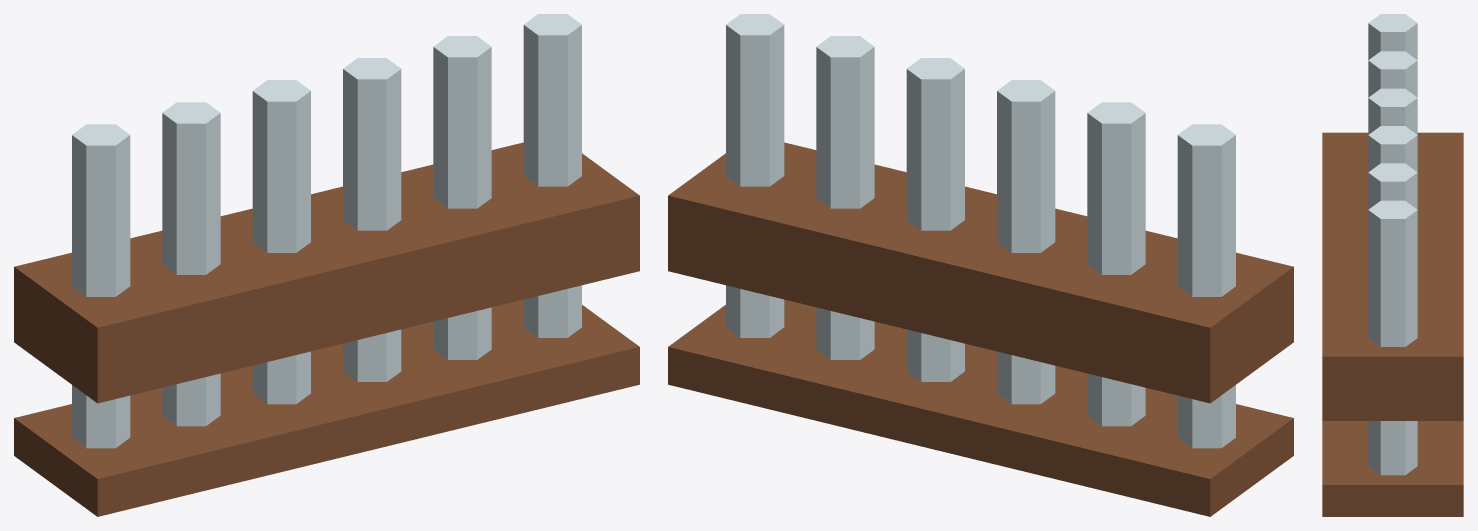
File: test_tubes.glb
3 views of the same model, side by side, from view 1: azimuth 30°, elevation 25°; view 2: azimuth 150°, elevation 25°; view 3: azimuth 270°, elevation 25° (orthographic). The views are drawn at different scales.
Parts seen in each view (by area): view 1: rack_rack_wood (×2), glass_tube_glass (×6); view 2: rack_rack_wood (×2), glass_tube_glass (×6); view 3: rack_rack_wood (×2), glass_tube_glass (×6).
Boxes of the visible parts, x1,y1,x2,y2 form: rack_rack_wood (×2): (14, 142, 639, 516); glass_tube_glass (×6): (72, 14, 581, 448); rack_rack_wood (×2): (668, 142, 1293, 516); glass_tube_glass (×6): (726, 14, 1235, 448); rack_rack_wood (×2): (1322, 132, 1463, 516); glass_tube_glass (×6): (1368, 14, 1417, 475).
Bounding box in the file's own units: 0.3 × 0.18 × 0.08.
